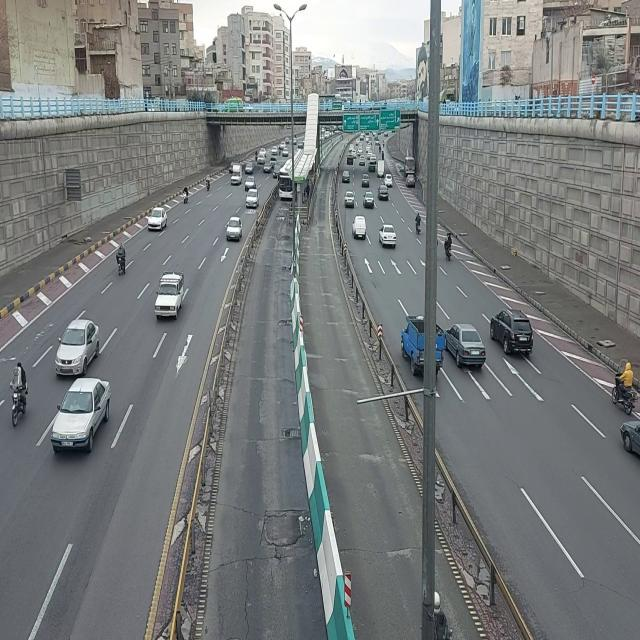Bus: (278, 157, 294, 201)
Car: (50, 377, 112, 455), (53, 319, 100, 379), (490, 306, 535, 358), (444, 320, 488, 370), (147, 205, 167, 233), (378, 224, 398, 250), (226, 215, 244, 243), (245, 187, 259, 210), (376, 185, 390, 203), (362, 191, 375, 210), (344, 190, 356, 208), (244, 175, 256, 192), (244, 160, 256, 175), (342, 169, 352, 185), (263, 160, 273, 175), (362, 173, 371, 189), (273, 162, 281, 180), (384, 174, 394, 188), (258, 153, 267, 165), (346, 153, 354, 166), (368, 160, 376, 172), (359, 156, 367, 168), (271, 145, 278, 155), (283, 146, 290, 156)
Motorcycle: (611, 360, 639, 414), (10, 359, 30, 429), (115, 241, 127, 276), (444, 231, 454, 264), (414, 211, 422, 238), (182, 184, 188, 205), (206, 173, 212, 193), (255, 149, 259, 163), (278, 144, 282, 158), (381, 150, 385, 162), (379, 143, 382, 155), (382, 139, 386, 147)
Pickup: (155, 271, 185, 319), (351, 215, 367, 243), (230, 162, 244, 188), (377, 159, 385, 179)
